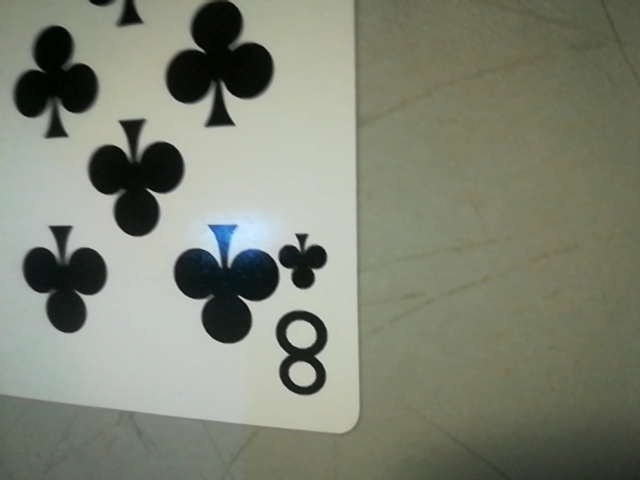mh 8: (266, 224, 345, 410)
